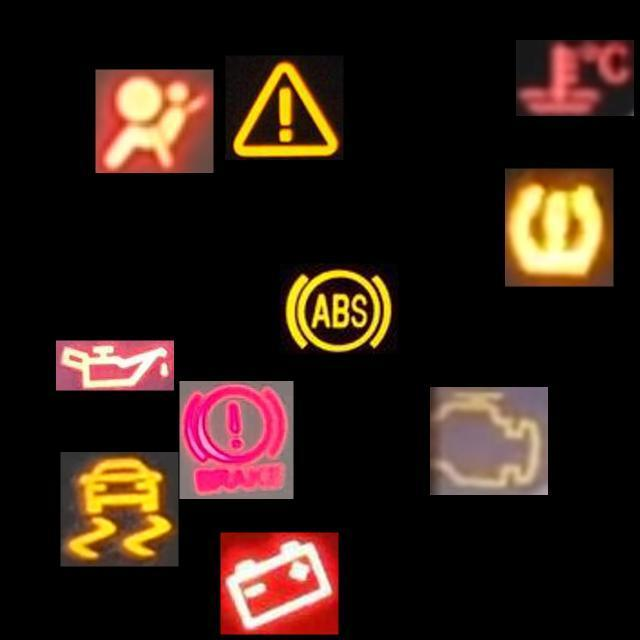Central Warning lamp: (225, 56, 344, 160)
Engine cooling system: (516, 40, 634, 116)
